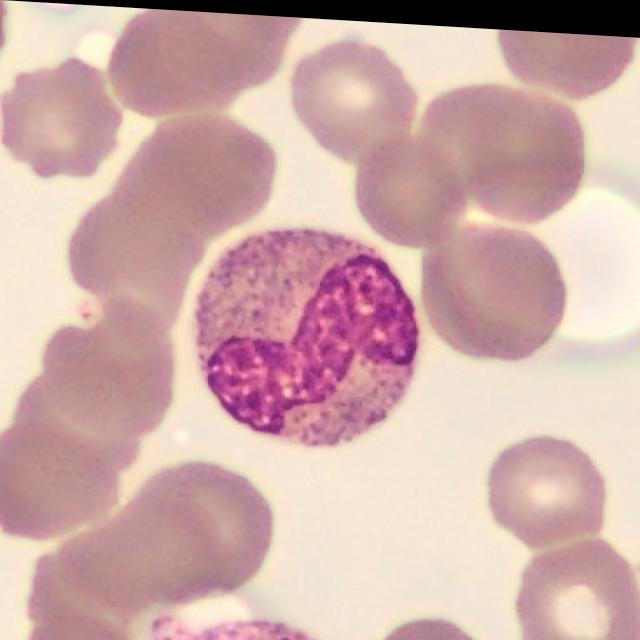Bastonete: (191, 221, 421, 442)
